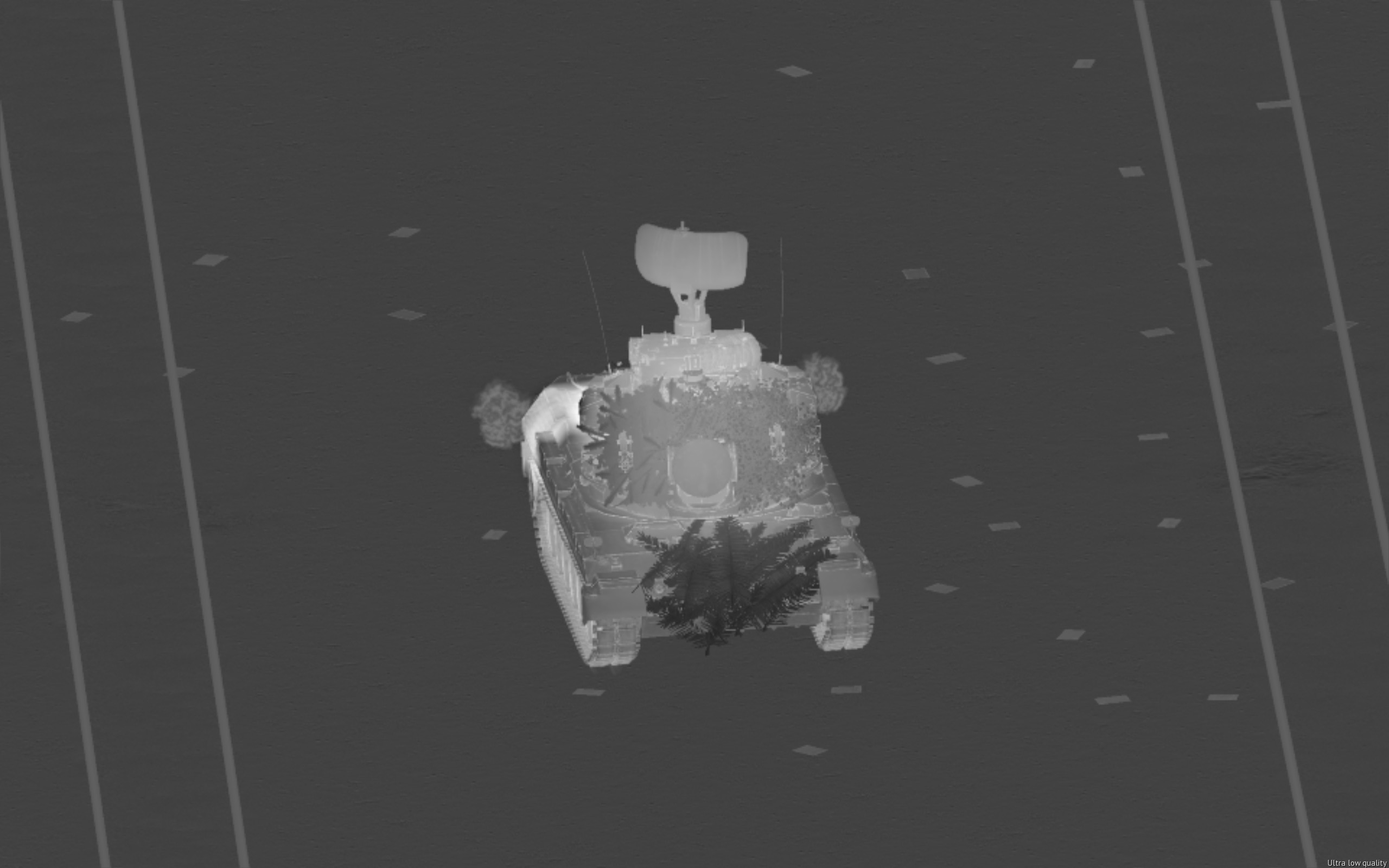spaa_gepard: (522, 224, 878, 678)
